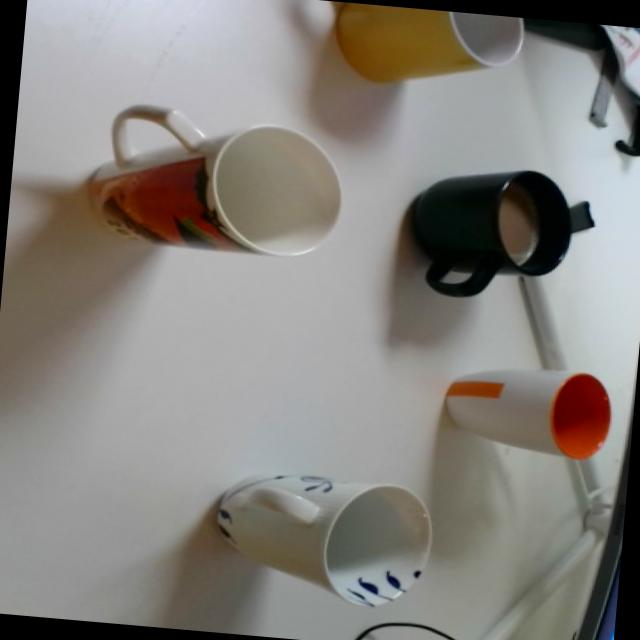Cocio Cup: (328, 0, 528, 94)
Cup: (403, 159, 581, 310)
Halloween cup: (93, 97, 350, 260)
Hand painted cup: (206, 463, 437, 612)
White Cup: (438, 361, 614, 464)
